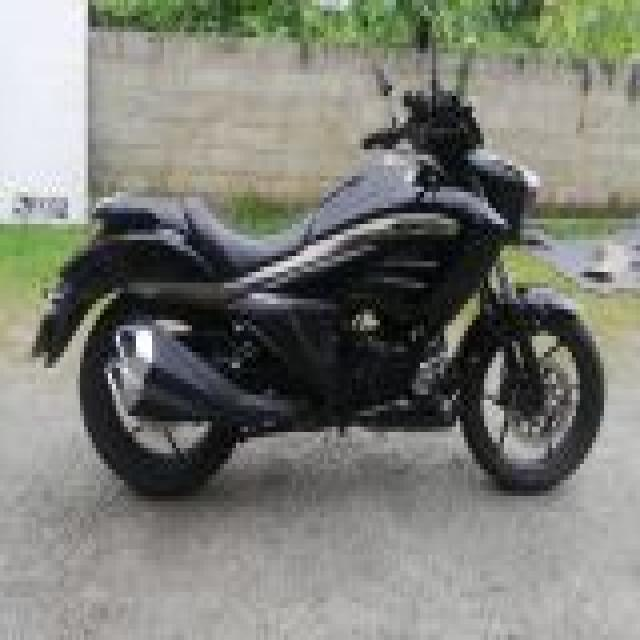motorbike: (36, 103, 598, 504)
